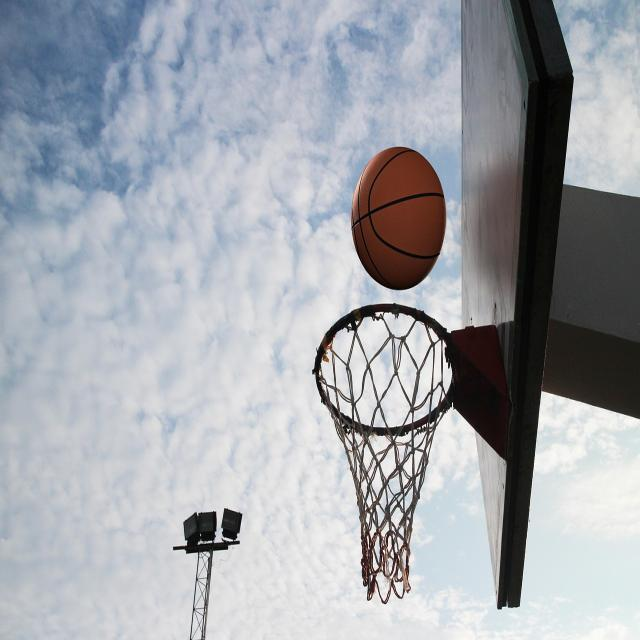Basketball: (351, 148, 445, 288)
